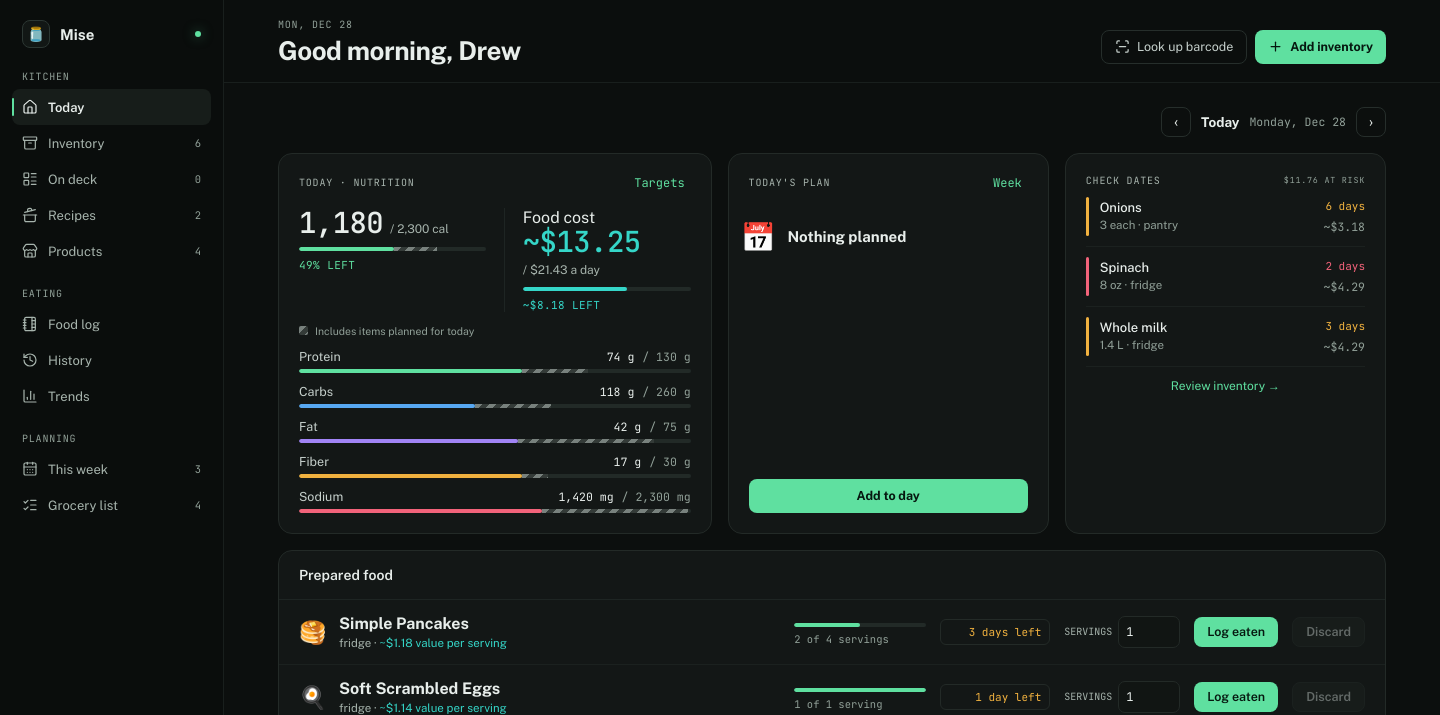
it: warns on uncovered selection while recognizing an expanded cross-week source range
This screenshot has width=1440, height=715.
Click the button "Grocery list 4". click: {"x": 112, "y": 505}
box: x1=12 y1=487 x2=211 y2=523
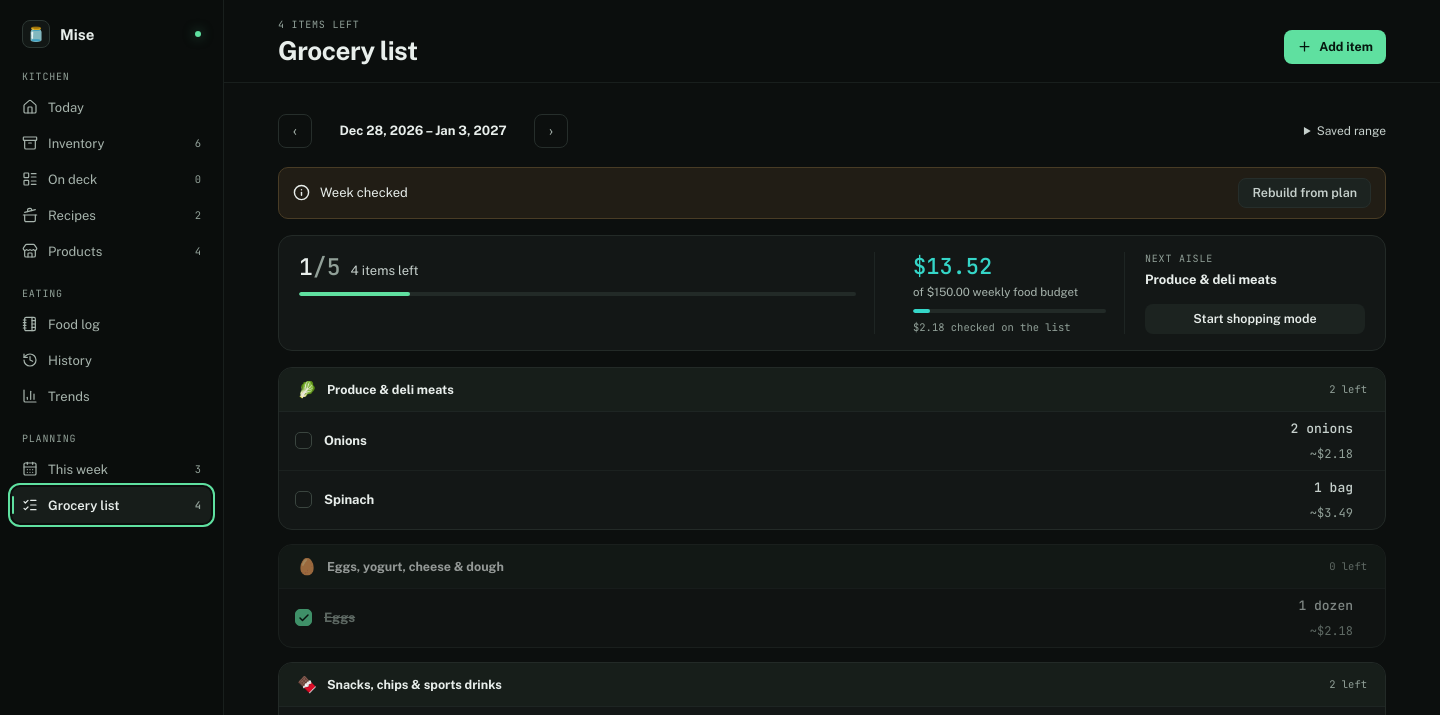
Click the button named "Previous week". click: {"x": 295, "y": 131}
box: x1=278 y1=114 x2=312 y2=148
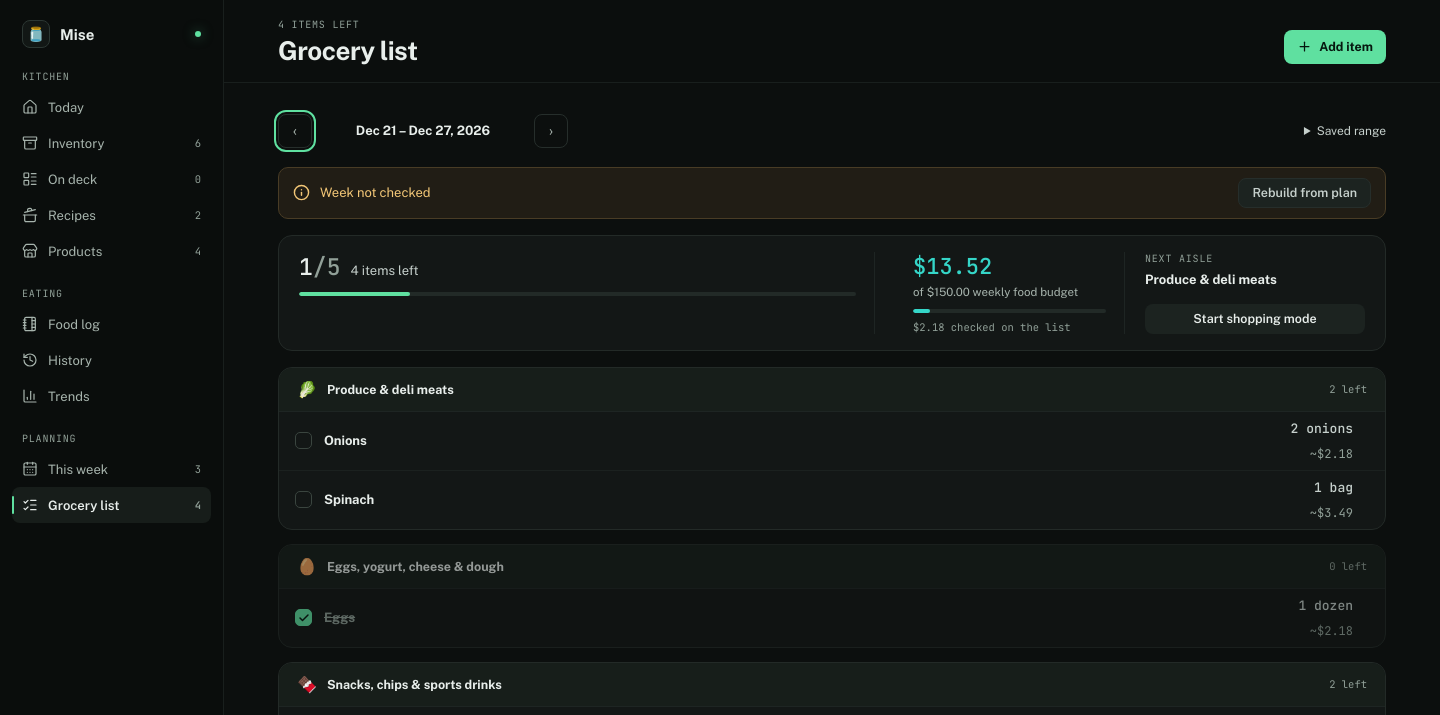
Expected: the message named "Grocery coverage warning" shows "Week not checked", x1=320 y1=185 x2=430 y2=200
